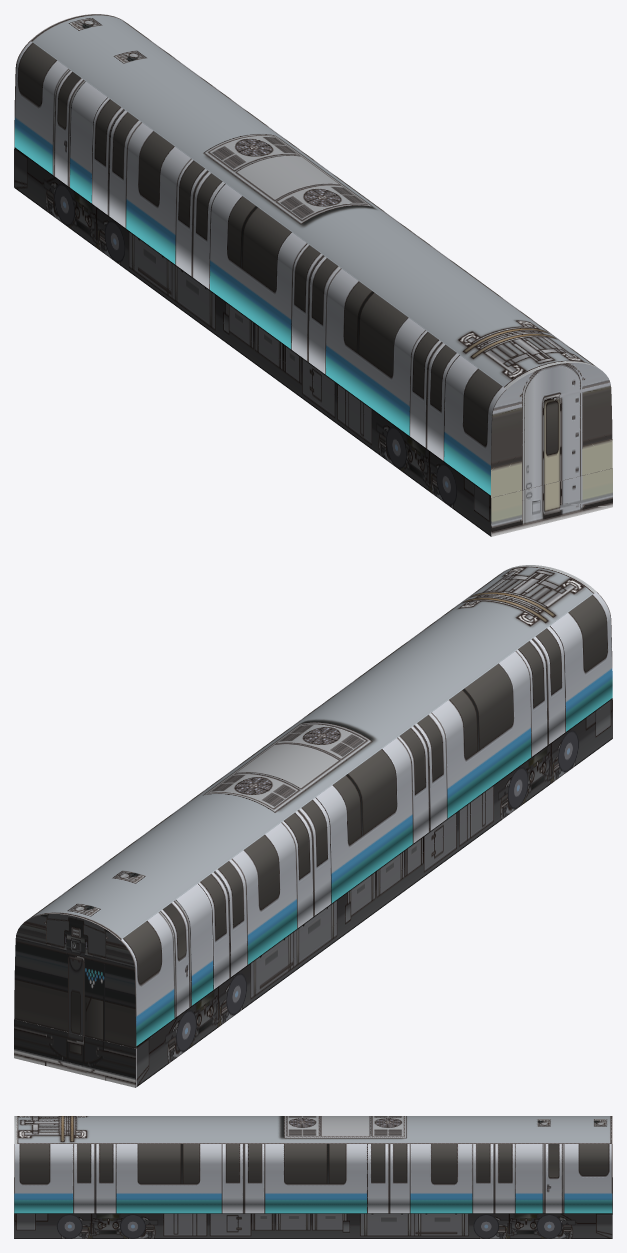
Rendered from car1.glb.
3 views of the same model, one above another, from view 1: azimuth 30°, elevation 25°; view 2: azimuth 150°, elevation 25°; view 3: azimuth 270°, elevation 25° (orthographic). The views are drawn at different scales.
Visible parts, largest first — view 1: jr_east_e131_200; view 2: jr_east_e131_200; view 3: jr_east_e131_200.
Part boxes in pixels (x1,y1,x2,y2): jr_east_e131_200: (14,14,612,536); jr_east_e131_200: (14,565,612,1087); jr_east_e131_200: (14,1116,612,1238).
Bounding box in the file's own units: 2.95 × 3.62 × 20.03.
7 materials, 6 textured.
